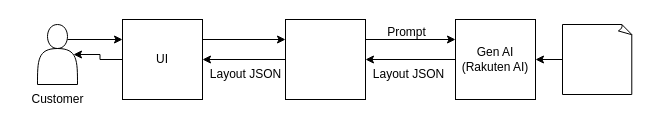
Image size: 650x131. Some labels were removed from this diagram. Each missing label, with the box of its shape:
Backend: (284, 18, 366, 100)
UI Framework Context: (562, 24, 632, 94)
